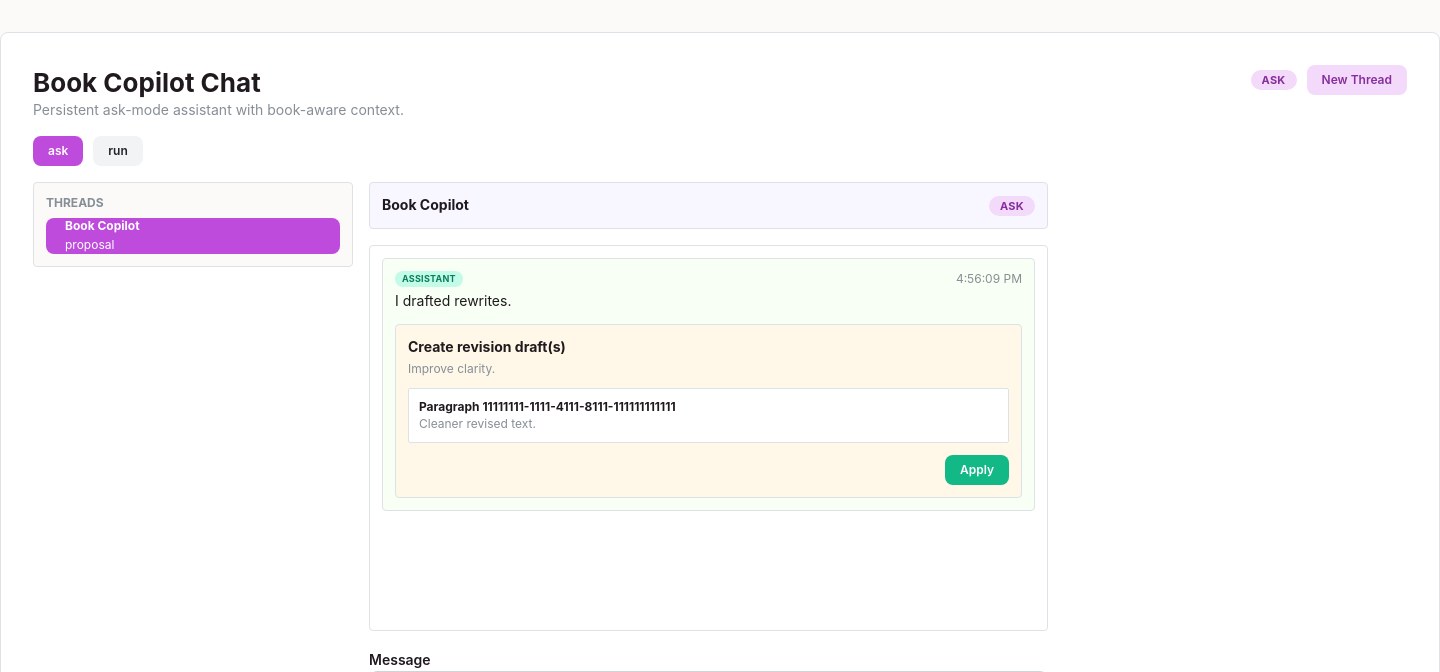
Test: BookChatRail › shows replay notice when apply returns idempotent=true
Check: the text "Create revision draft(s)" is shown, box [408,337,566,357]
Click the button "Apply" at (977, 470), box [945,456,1009,486]
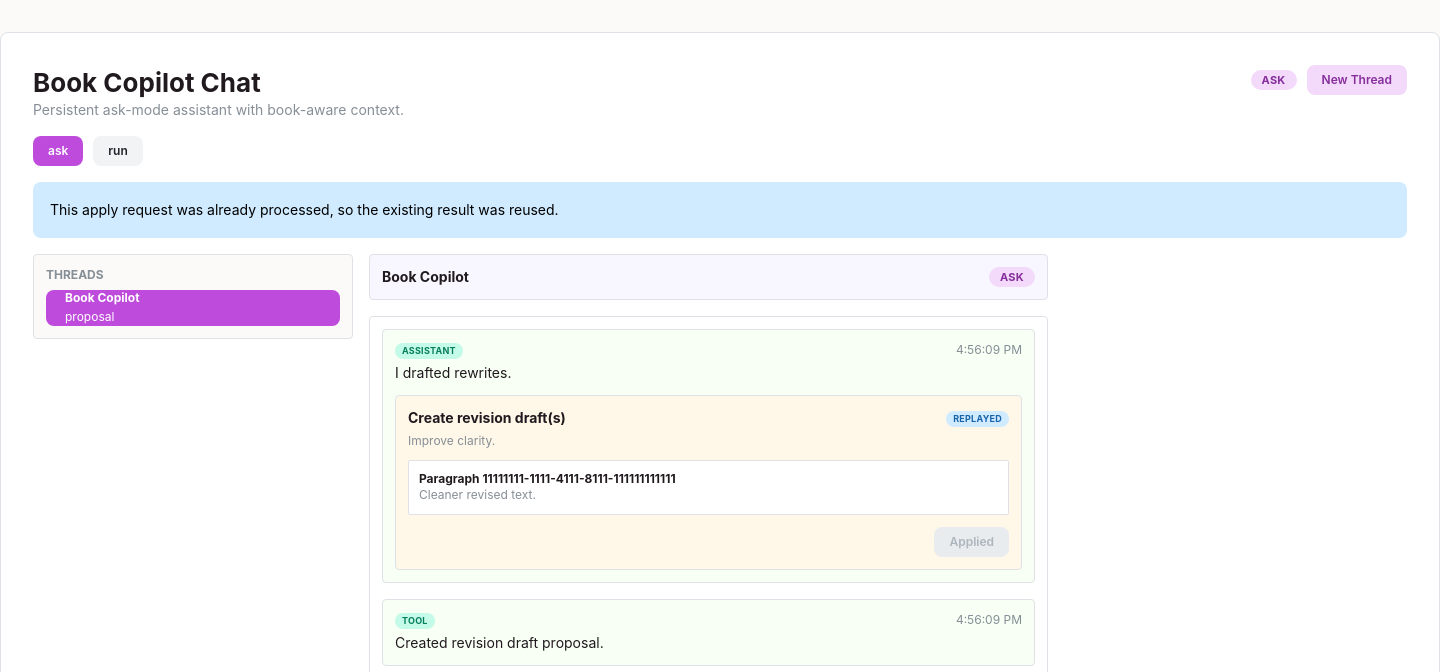
Check: the text "This apply request was already processed, so the existing result was reused." is shown, box [50,201,559,218]
Check: the text "Replayed" is shown, box [953,412,1002,426]
